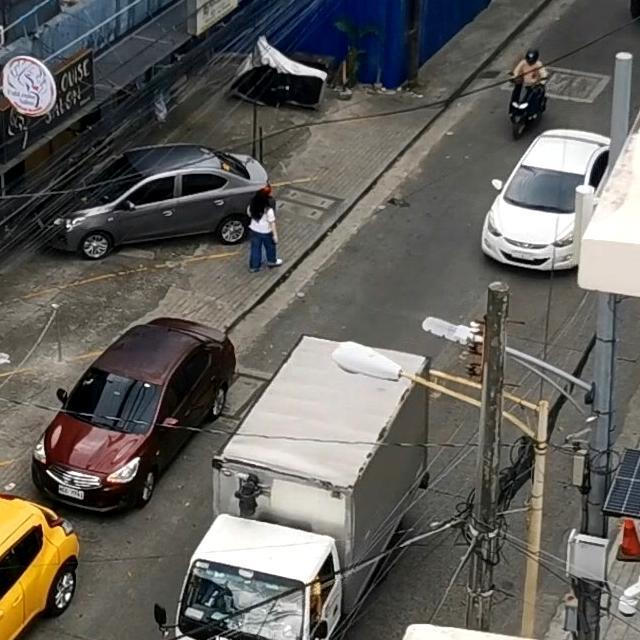Motorcycle: (509, 48, 548, 128)
